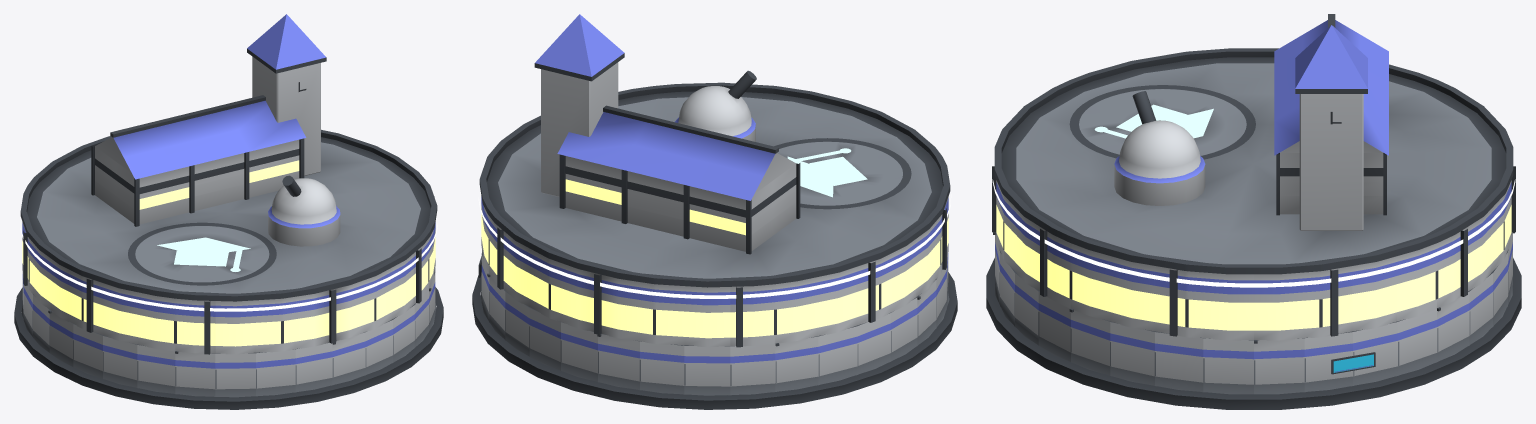
Rendered from academy_s.glb.
3 views of the same model, side by side, from view 1: azimuth 30°, elevation 25°; view 2: azimuth 150°, elevation 25°; view 3: azimuth 270°, elevation 25° (orthographic). The views are drawn at different scales.
Parts seen in each view (by area): view 1: Roof, Base, Upper_20, Upper_21, Upper_22, Upper_23, Upper_19, Wall_21, Wall_20, Upper_18, Wall_22, Wall_19 (+19 smaller); view 2: Roof, Base, Upper_10, Upper_11, Upper_09, Upper_08, Upper_12, Wall_10, Wall_09, Wall_11, Upper_13, Wall_12 (+19 smaller); view 3: Roof, Base, Upper_00, Upper_31, Upper_01, Upper_30, Upper_02, Upper_29, Wall_00, Wall_31, Wall_30, Upper_03 (+22 smaller).
Boxes of the visible parts, left/top/right/bottom form: Roof: left=20, top=14, right=437, bottom=301; Base: left=14, top=287, right=443, bottom=409; Upper_20: left=175, top=298, right=215, bottom=354; Upper_21: left=215, top=300, right=255, bottom=354; Upper_22: left=256, top=297, right=295, bottom=352; Upper_23: left=295, top=289, right=333, bottom=348; Upper_19: left=138, top=292, right=175, bottom=351; Wall_21: left=215, top=352, right=255, bottom=397; Wall_20: left=175, top=351, right=215, bottom=396; Upper_18: left=103, top=283, right=137, bottom=344; Wall_22: left=256, top=349, right=295, bottom=396; Wall_19: left=137, top=344, right=175, bottom=393; Roof: left=479, top=14, right=950, bottom=287; Base: left=472, top=272, right=957, bottom=409; Upper_10: left=684, top=286, right=730, bottom=347; Upper_11: left=730, top=284, right=775, bottom=347; Upper_09: left=640, top=282, right=684, bottom=345; Upper_08: left=596, top=274, right=639, bottom=340; Upper_12: left=775, top=277, right=817, bottom=343; Wall_10: left=684, top=345, right=730, bottom=395; Wall_09: left=639, top=341, right=684, bottom=394; Wall_11: left=730, top=344, right=775, bottom=395; Upper_13: left=818, top=267, right=856, bottom=335; Wall_12: left=775, top=336, right=818, bottom=391; Roof: left=994, top=14, right=1513, bottom=274; Base: left=986, top=258, right=1521, bottom=409; Upper_00: left=1254, top=272, right=1304, bottom=340; Upper_31: left=1203, top=272, right=1253, bottom=340; Upper_01: left=1304, top=266, right=1352, bottom=337; Upper_30: left=1155, top=266, right=1203, bottom=337; Upper_02: left=1352, top=256, right=1396, bottom=331; Upper_29: left=1111, top=256, right=1155, bottom=331; Wall_00: left=1254, top=338, right=1304, bottom=394; Wall_31: left=1203, top=338, right=1253, bottom=394; Wall_30: left=1154, top=331, right=1203, bottom=392; Upper_03: left=1397, top=243, right=1436, bottom=321.
Size of the model in its own units: 11.74 by 7.9 by 11.74.
